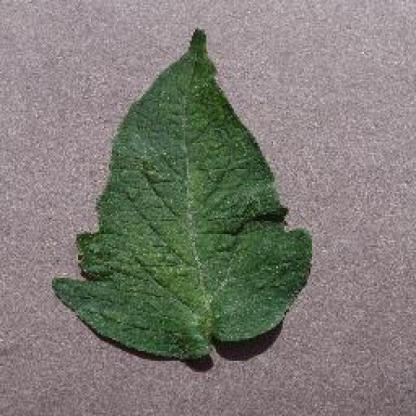Tomato_Spider_Mites: (54, 29, 317, 358)
